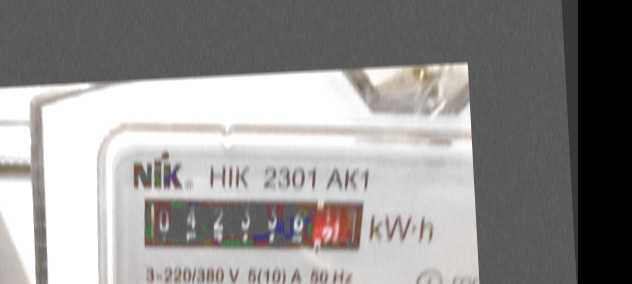0: (157, 204, 172, 234)
2: (209, 203, 229, 231)
3: (236, 202, 254, 232), (265, 202, 281, 230)
4: (183, 204, 201, 232)
6: (291, 206, 307, 234)
screen: (131, 177, 375, 270)
